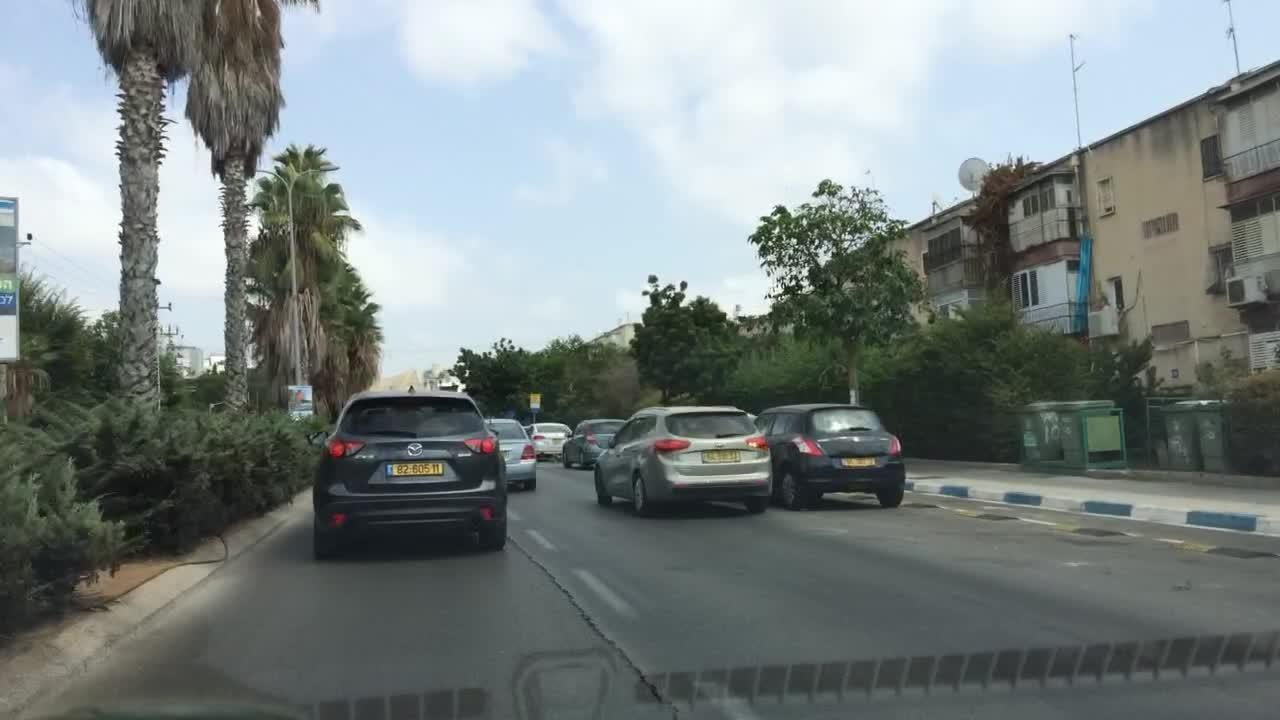Mazda: (400, 437, 428, 457)
